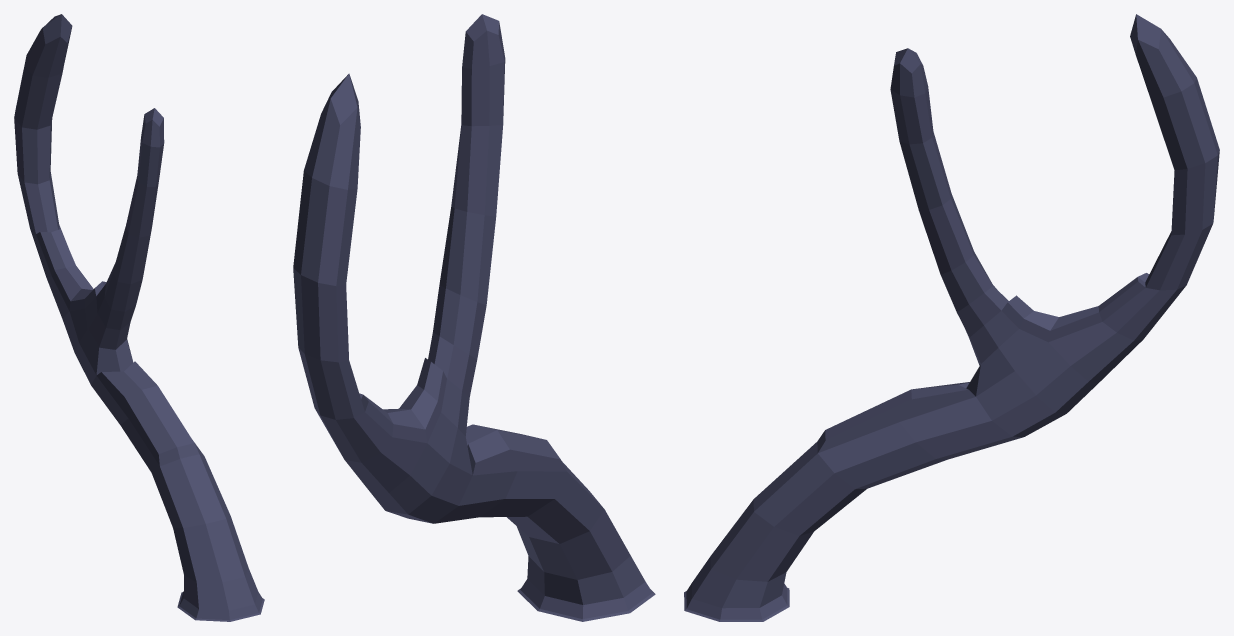
File: Dead_tree_7.fbx
3 views of the same model, side by side, from view 1: azimuth 30°, elevation 25°; view 2: azimuth 150°, elevation 25°; view 3: azimuth 270°, elevation 25° (orthographic). The views are drawn at different scales.
Parts seen in each view (by area): view 1: Dead_tree_7; view 2: Dead_tree_7; view 3: Dead_tree_7.
Part boxes in pixels (bbox=[...]): Dead_tree_7: bbox=[14, 14, 264, 621]; Dead_tree_7: bbox=[293, 14, 655, 621]; Dead_tree_7: bbox=[684, 14, 1219, 621].
Size of the model in its own units: 2.05 by 12.59 by 10.43.
